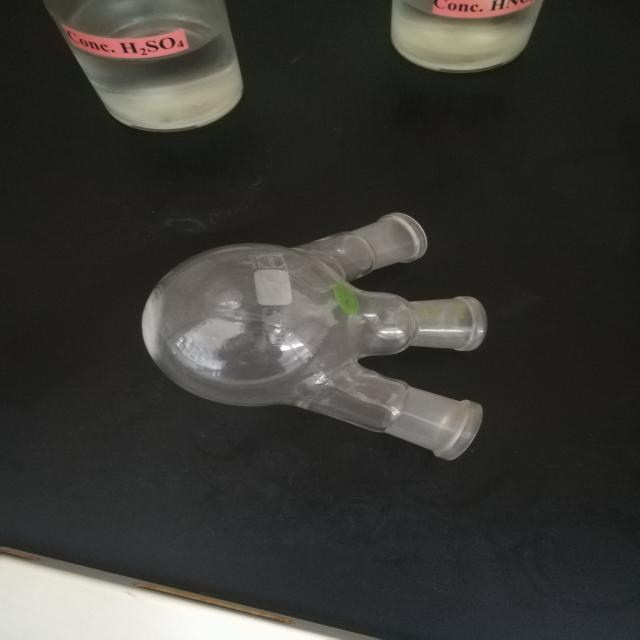Round_Bottom_Flask_Borosilicate_Glass_3_Neck: (116, 186, 524, 496)
